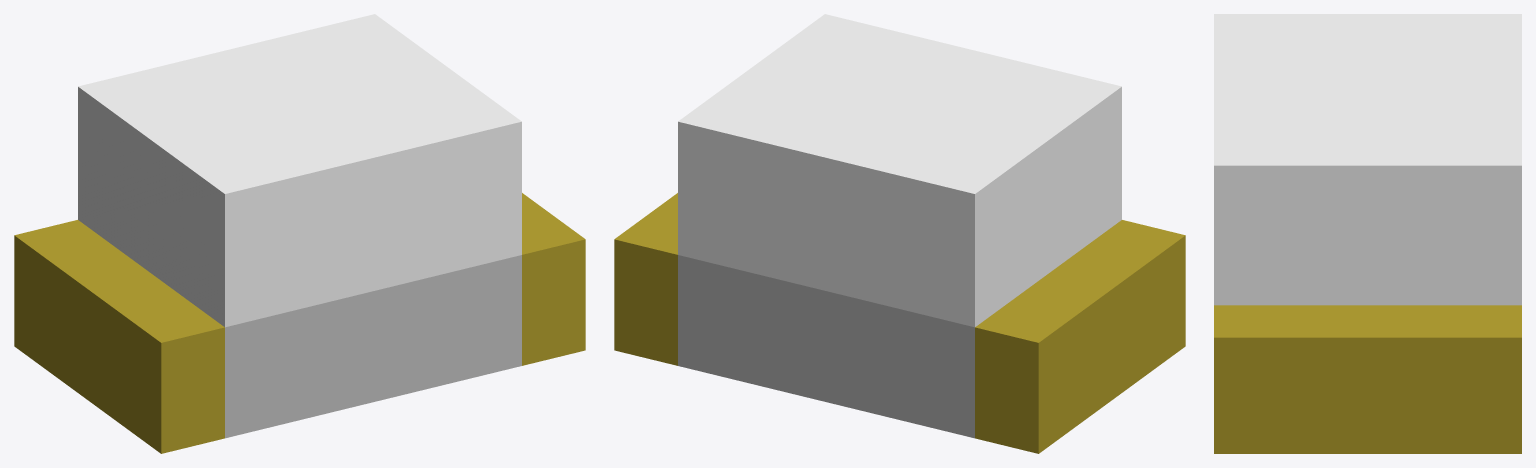
File: __mod__.glb
The picture shows the model from 3 angles, left to right: view 1: azimuth 30°, elevation 25°; view 2: azimuth 150°, elevation 25°; view 3: azimuth 270°, elevation 25°; orthographic projection. The views are drawn at different scales.
Visible parts, largest first — view 1: Plane; view 2: Plane; view 3: Plane.
Boxes of the visible parts, x1,y1,x2,y2 form: Plane: (14,14,585,453); Plane: (614,14,1185,453); Plane: (1214,14,1521,453).
Size of the model in its own units: 0.002 by 0.0011 by 0.0012.
